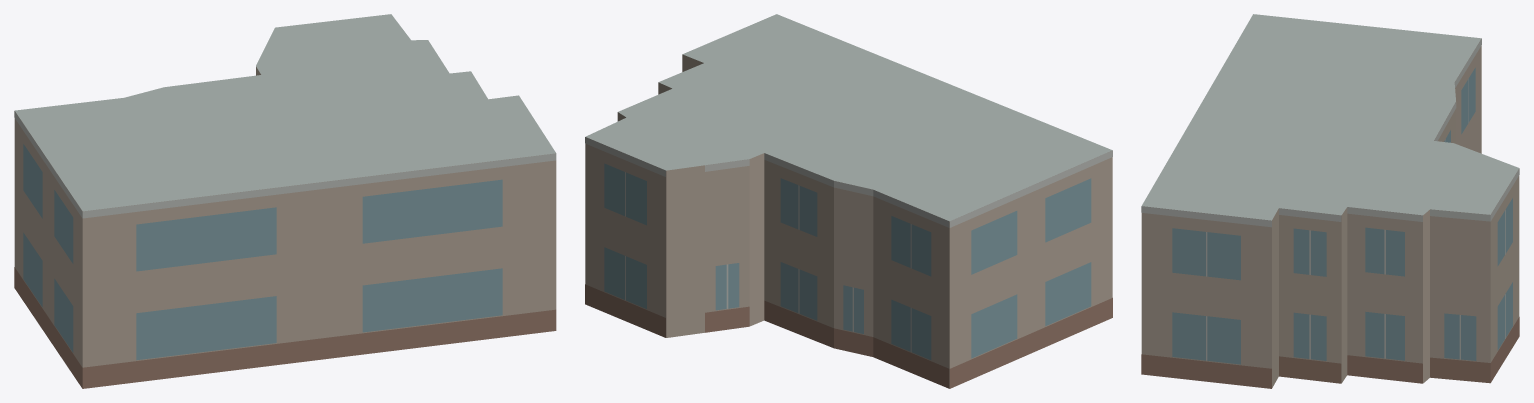
Rendered from survey-upis-32670268.glb.
The picture shows the model from 3 angles, left to right: view 1: azimuth 30°, elevation 25°; view 2: azimuth 150°, elevation 25°; view 3: azimuth 270°, elevation 25°; orthographic projection. The views are drawn at different scales.
Visible parts, largest first — view 1: survey-upis-32670268.tmp; view 2: survey-upis-32670268.tmp; view 3: survey-upis-32670268.tmp.
Boxes of the visible parts, bbox=[...] form: survey-upis-32670268.tmp: bbox=[14, 14, 556, 388]; survey-upis-32670268.tmp: bbox=[585, 14, 1112, 388]; survey-upis-32670268.tmp: bbox=[1141, 14, 1519, 388].
Bounding box in the file's own units: 16.06 × 6.1 × 12.43.
